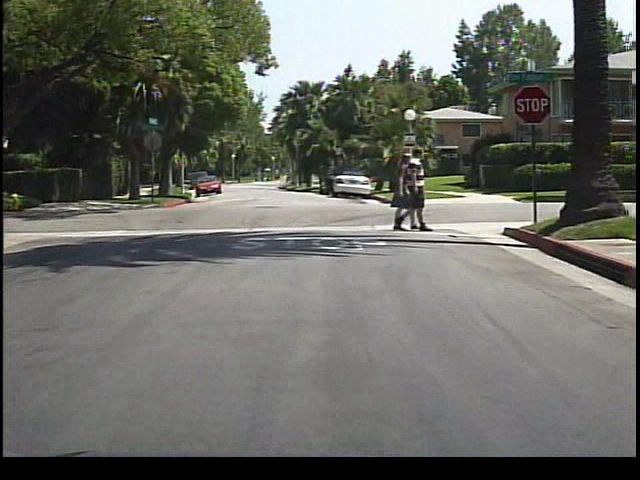person: (401, 148, 436, 232), (385, 151, 413, 236)
